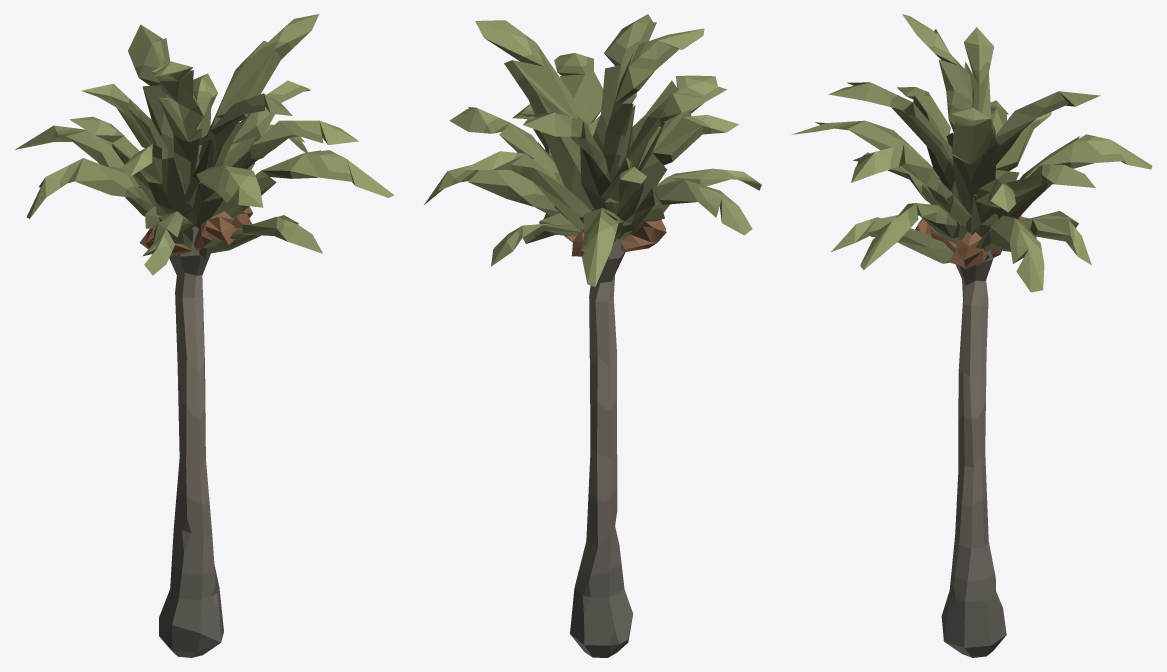
The model's file is SM_Env_Tree_Big_03.fbx.
The picture shows the model from 3 angles, left to right: view 1: azimuth 30°, elevation 25°; view 2: azimuth 150°, elevation 25°; view 3: azimuth 270°, elevation 25°; orthographic projection. The views are drawn at different scales.
Parts seen in each view (by area): view 1: SM_Env_Tree_Big_03; view 2: SM_Env_Tree_Big_03; view 3: SM_Env_Tree_Big_03.
Boxes of the visible parts, x1=… form: SM_Env_Tree_Big_03: x1=15, y1=14, x2=394, y2=657; SM_Env_Tree_Big_03: x1=424, y1=14, x2=761, y2=657; SM_Env_Tree_Big_03: x1=791, y1=14, x2=1152, y2=657.
Size of the model in its own units: 606 by 1185 by 638.
